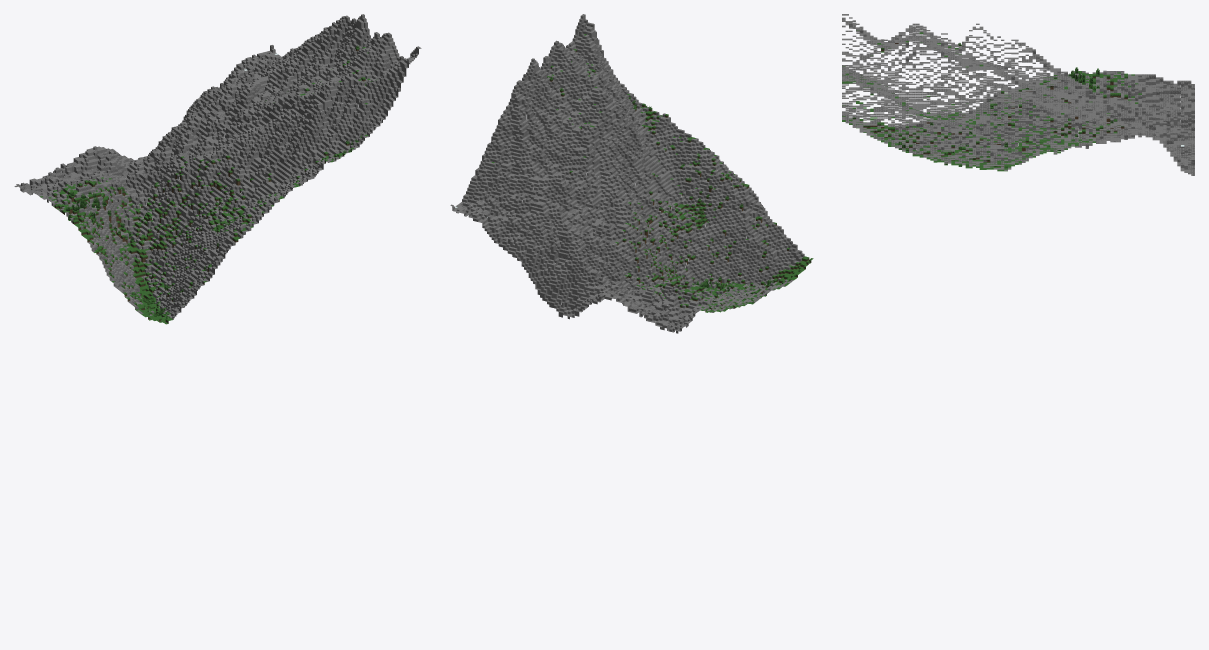
The model's file is chunk1700--2600-lvl-1-transformed.glb.
3 views of the same model, side by side, from view 1: azimuth 30°, elevation 25°; view 2: azimuth 150°, elevation 25°; view 3: azimuth 270°, elevation 25° (orthographic). The views are drawn at different scales.
Parts seen in each view (by area): view 1: Stone, Cobblestone, Grass_Block; view 2: Stone, Cobblestone, Grass_Block; view 3: Stone, Cobblestone, Grass_Block.
Part boxes in pixels (x1,y1,x2,y2): Stone: (22, 14, 421, 317); Cobblestone: (14, 16, 418, 319); Grass_Block: (40, 47, 377, 324); Stone: (453, 14, 802, 331); Cobblestone: (450, 19, 804, 333); Grass_Block: (491, 34, 813, 312); Stone: (842, 14, 1194, 172); Cobblestone: (842, 17, 1194, 175); Grass_Block: (842, 30, 1141, 171).
Bounding box in the file's own units: 100 × 194 × 100.
Materials: 23 (23 with a texture image).
